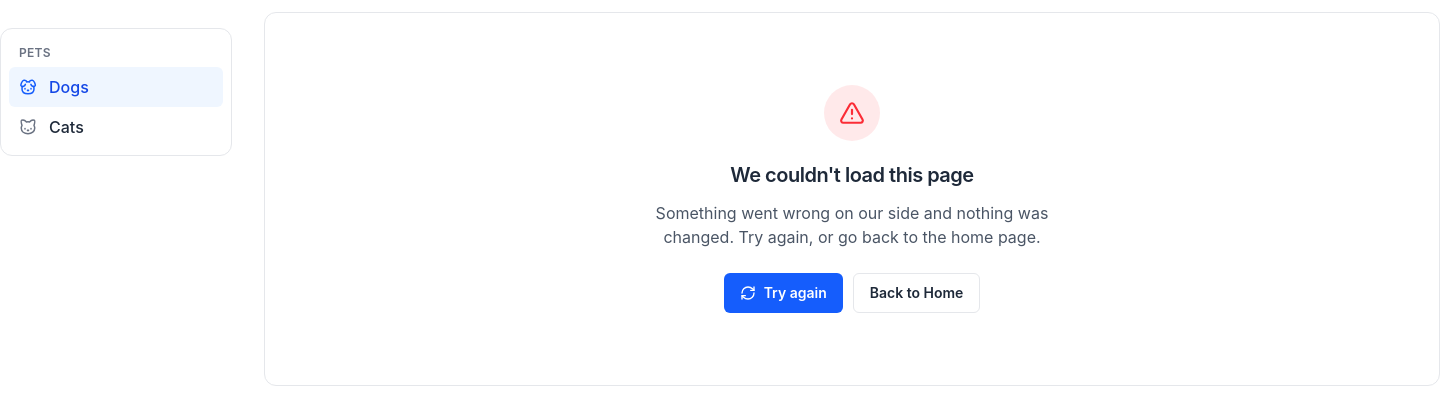
CategoryPage › shows the catalog-unavailable error frame on a 503, and retries
Click the button "Try again" at (783, 293), box [724,273,843,313]
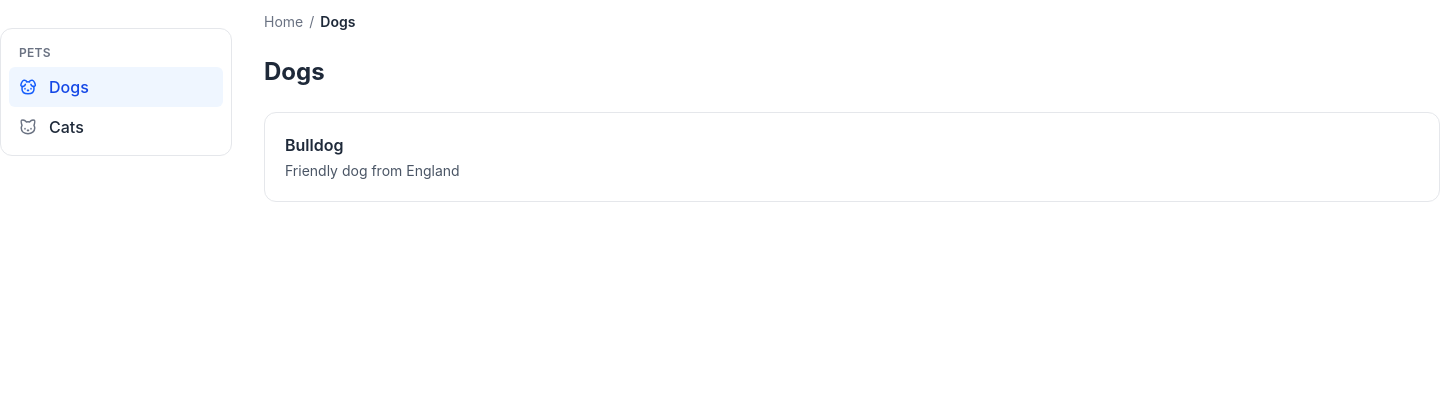
Expected: the heading "Dogs" is shown, [264,57,325,86]
